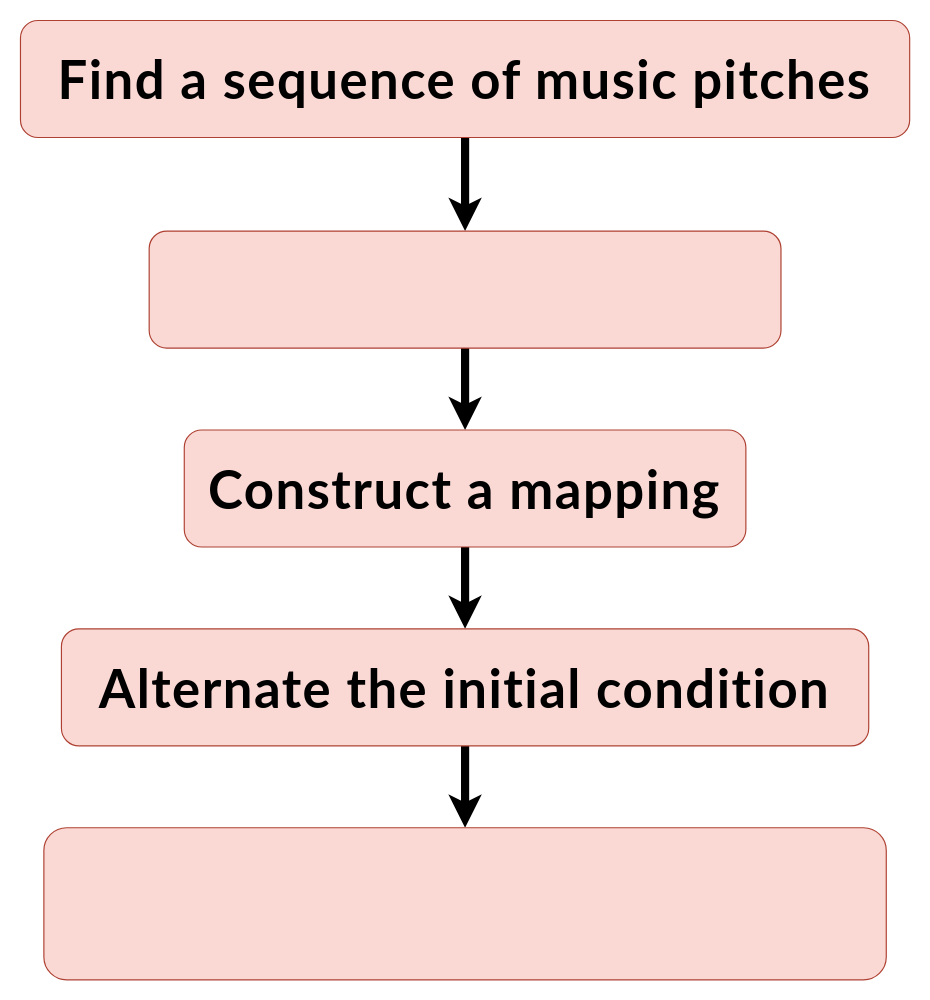
The diagram is 930 pixels wide and 1000 high, and some of its shapes have lost their labels. The box of each missing label's shape, as (x1, y1, x2, y2) in pixels:
Construct the sequence of new music pitch: (43, 827, 886, 980)
Determine a trajectory: (148, 230, 781, 348)
